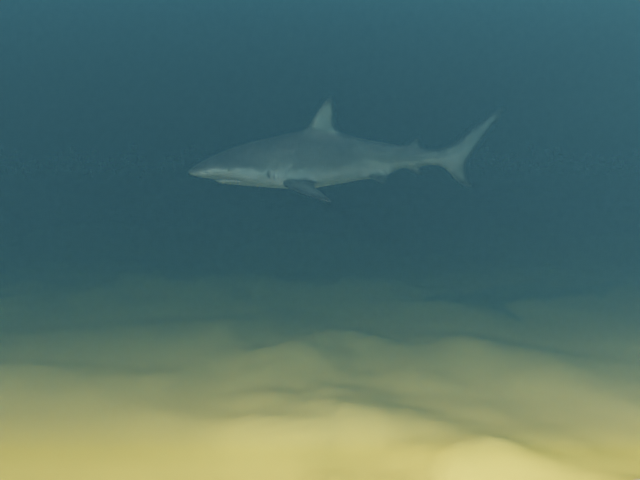Carribean Shark.001: (188, 97, 502, 202)
